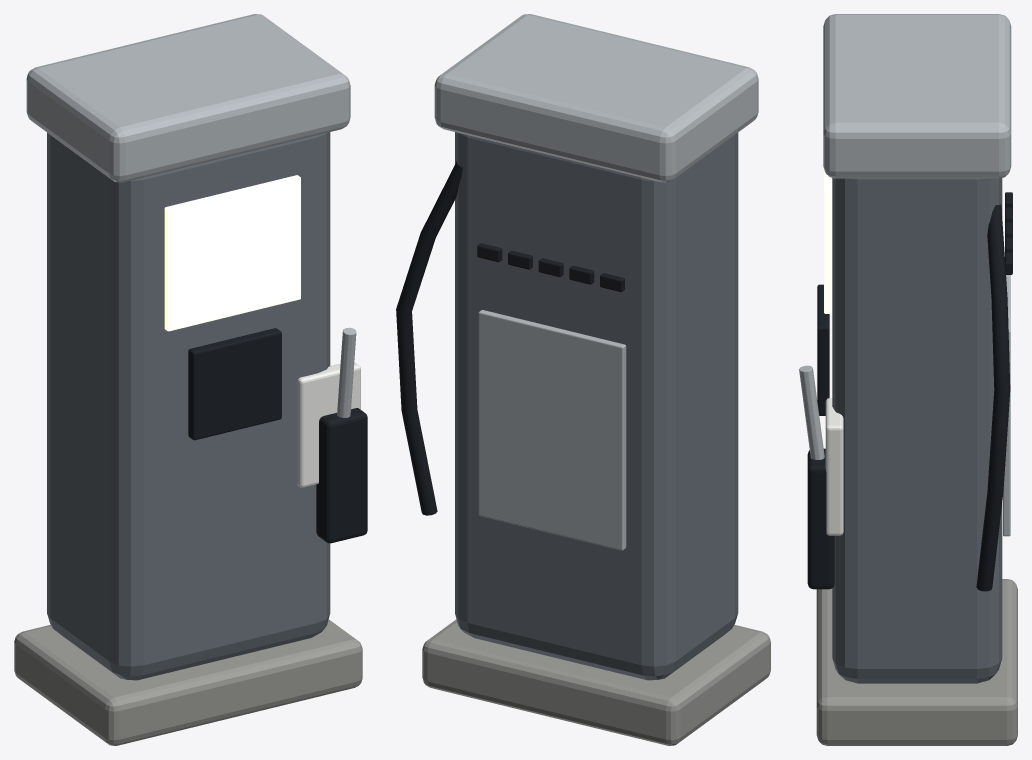
The model's file is prop_checkpoint_fuel_pump_a_v01.glb.
3 renders of one model, left to right at view 1: azimuth 30°, elevation 25°; view 2: azimuth 150°, elevation 25°; view 3: azimuth 270°, elevation 25°, orthographic.
Visible parts, largest first — view 1: component__cabinet__cabinet, component__protective_trim__protective_trim, component__anchored_pedestal__anchored_pedestal, component__display__display, component__payment_terminal__payment_terminal, component__nozzle__nozzle, component__nozzle__nozzle_cradle, component__nozzle__nozzle_spout; view 2: component__cabinet__cabinet, component__protective_trim__protective_trim, component__service_panel__service_panel, component__anchored_pedestal__anchored_pedestal, component__hose__hose; view 3: component__cabinet__cabinet, component__protective_trim__protective_trim, component__anchored_pedestal__anchored_pedestal, component__hose__hose, component__nozzle__nozzle, component__nozzle__nozzle_cradle, component__payment_terminal__payment_terminal, component__nozzle__nozzle_spout, component__service_panel__service_panel, component__display__display.
Part boxes in pixels (box(x1,y1,x2,y2)): component__cabinet__cabinet: box(47, 132, 330, 680); component__protective_trim__protective_trim: box(26, 14, 350, 182); component__anchored_pedestal__anchored_pedestal: box(14, 619, 362, 745); component__display__display: box(164, 175, 300, 331); component__payment_terminal__payment_terminal: box(188, 328, 281, 440); component__nozzle__nozzle: box(316, 408, 367, 543); component__nozzle__nozzle_cradle: box(297, 362, 360, 487); component__nozzle__nozzle_spout: box(337, 327, 356, 417); component__cabinet__cabinet: box(455, 132, 738, 680); component__protective_trim__protective_trim: box(434, 14, 758, 182); component__service_panel__service_panel: box(478, 310, 626, 550); component__anchored_pedestal__anchored_pedestal: box(422, 619, 770, 745); component__hose__hose: box(396, 161, 462, 515); component__cabinet__cabinet: box(832, 178, 1002, 683); component__protective_trim__protective_trim: box(823, 14, 1011, 178); component__anchored_pedestal__anchored_pedestal: box(816, 579, 1017, 745); component__hose__hose: box(976, 204, 1010, 591); component__nozzle__nozzle: box(807, 448, 834, 589); component__nozzle__nozzle_cradle: box(825, 398, 843, 535); component__payment_terminal__payment_terminal: box(817, 284, 829, 415); component__nozzle__nozzle_spout: box(799, 365, 824, 459); component__service_panel__service_panel: box(1003, 275, 1010, 536); component__display__display: box(824, 169, 831, 313).
Bounding box in the file's own units: 0.9219 × 1.89 × 0.6071.
